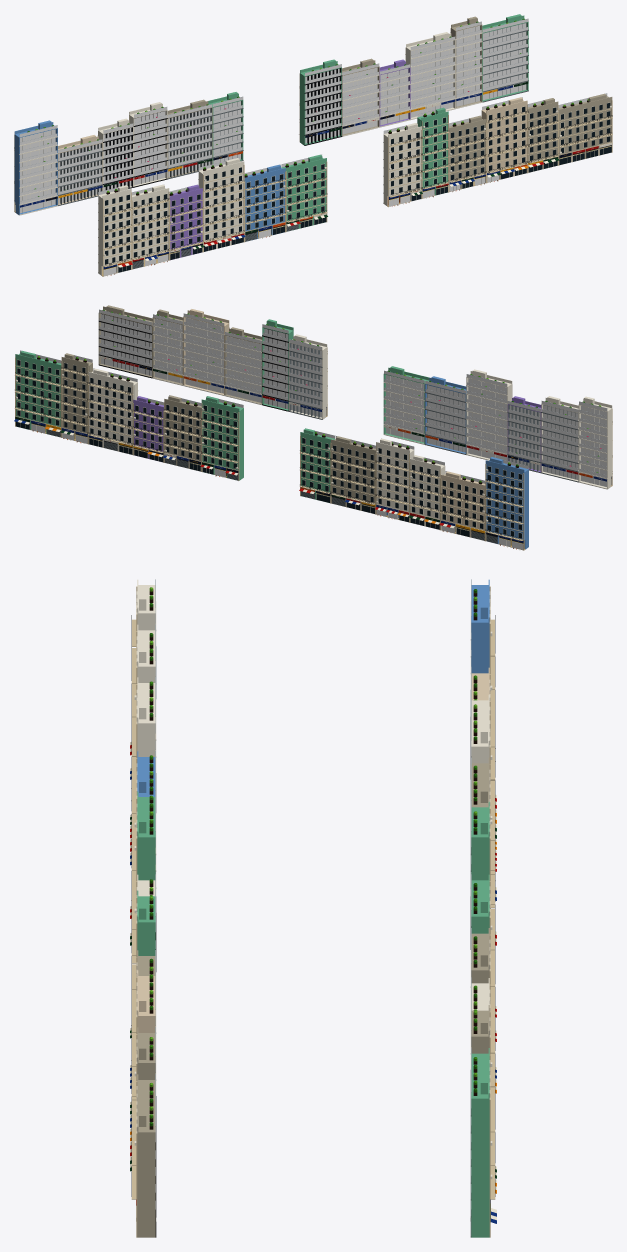
File: PV_RiverApartments.fbx
The picture shows the model from 3 angles, top to bottom: view 1: azimuth 30°, elevation 25°; view 2: azimuth 150°, elevation 25°; view 3: azimuth 270°, elevation 25°; orthographic projection. The views are drawn at different scales.
Parts seen in each view (by area): view 1: PV_RiverApt11_LOD0, PV_RiverApt20_LOD0, PV_RiverApt05_LOD0, PV_RiverApt03_LOD0, PV_RiverApt00_LOD0, PV_RiverApt17_LOD0, PV_RiverApt15_LOD0, PV_RiverApt07_LOD0, PV_RiverApt12_LOD0, PV_RiverApt22_LOD0, PV_RiverApt18_LOD0, PV_RiverApt23_LOD0 (+12 smaller); view 2: PV_RiverApt11_LOD0, PV_RiverApt20_LOD0, PV_RiverApt03_LOD0, PV_RiverApt05_LOD0, PV_RiverApt17_LOD0, PV_RiverApt15_LOD0, PV_RiverApt00_LOD0, PV_RiverApt07_LOD0, PV_RiverApt12_LOD0, PV_RiverApt23_LOD0, PV_RiverApt22_LOD0, PV_RiverApt18_LOD0 (+12 smaller); view 3: PV_RiverApt05_LOD0, PV_RiverApt17_LOD0, PV_RiverApt11_LOD0, PV_RiverApt18_LOD0, PV_RiverApt06_LOD0, PV_RiverApt20_LOD0, PV_RiverApt15_LOD0, PV_RiverApt13_LOD0, PV_RiverApt22_LOD0, PV_RiverApt08_LOD0, PV_RiverApt00_LOD0, PV_RiverApt01_LOD0 (+5 smaller).
Part boxes in pixels (<box>): PV_RiverApt11_LOD0: <box>14,120,57,215</box>; PV_RiverApt20_LOD0: <box>198,157,245,252</box>; PV_RiverApt05_LOD0: <box>482,14,528,102</box>; PV_RiverApt03_LOD0: <box>405,32,455,119</box>; PV_RiverApt00_LOD0: <box>299,59,342,145</box>; PV_RiverApt17_LOD0: <box>558,93,612,165</box>; PV_RiverApt15_LOD0: <box>481,97,528,182</box>; PV_RiverApt07_LOD0: <box>167,99,212,179</box>; PV_RiverApt12_LOD0: <box>383,123,422,207</box>; PV_RiverApt22_LOD0: <box>132,184,169,269</box>; PV_RiverApt18_LOD0: <box>281,154,327,231</box>; PV_RiverApt23_LOD0: <box>98,185,132,276</box>; PV_RiverApt11_LOD0: <box>485,457,528,550</box>; PV_RiverApt20_LOD0: <box>466,369,512,460</box>; PV_RiverApt03_LOD0: <box>87,368,138,454</box>; PV_RiverApt05_LOD0: <box>14,350,61,437</box>; PV_RiverApt17_LOD0: <box>98,305,152,378</box>; PV_RiverApt15_LOD0: <box>183,309,229,395</box>; PV_RiverApt00_LOD0: <box>200,396,243,480</box>; PV_RiverApt07_LOD0: <box>330,436,375,514</box>; PV_RiverApt12_LOD0: <box>288,334,327,419</box>; PV_RiverApt23_LOD0: <box>578,396,612,489</box>; PV_RiverApt22_LOD0: <box>541,396,578,482</box>; PV_RiverApt18_LOD0: <box>383,366,429,444</box>; PV_RiverApt05_LOD0: <box>470,1047,496,1237</box>; PV_RiverApt17_LOD0: <box>131,1074,156,1237</box>; PV_RiverApt11_LOD0: <box>470,579,495,761</box>; PV_RiverApt18_LOD0: <box>130,791,156,945</box>; PV_RiverApt06_LOD0: <box>470,801,496,945</box>; PV_RiverApt20_LOD0: <box>130,677,156,865</box>; PV_RiverApt15_LOD0: <box>130,970,156,1141</box>; PV_RiverApt13_LOD0: <box>131,890,156,1060</box>; PV_RiverApt22_LOD0: <box>130,624,156,800</box>; PV_RiverApt08_LOD0: <box>470,707,496,880</box>; PV_RiverApt00_LOD0: <box>470,874,496,1041</box>; PV_RiverApt01_LOD0: <box>470,927,496,1078</box>.
Size of what is drawn, in the model's own units: 190 by 29.8 by 59.3.
